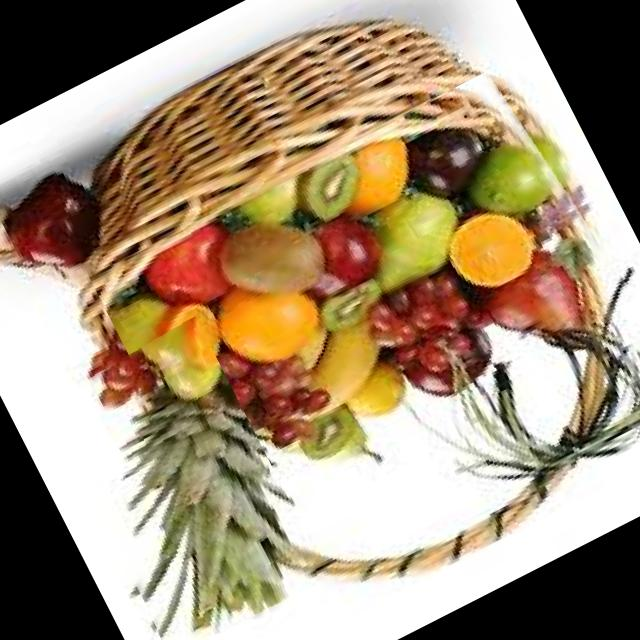Organic: (87, 56, 640, 532), (35, 314, 327, 640), (0, 154, 108, 327)
